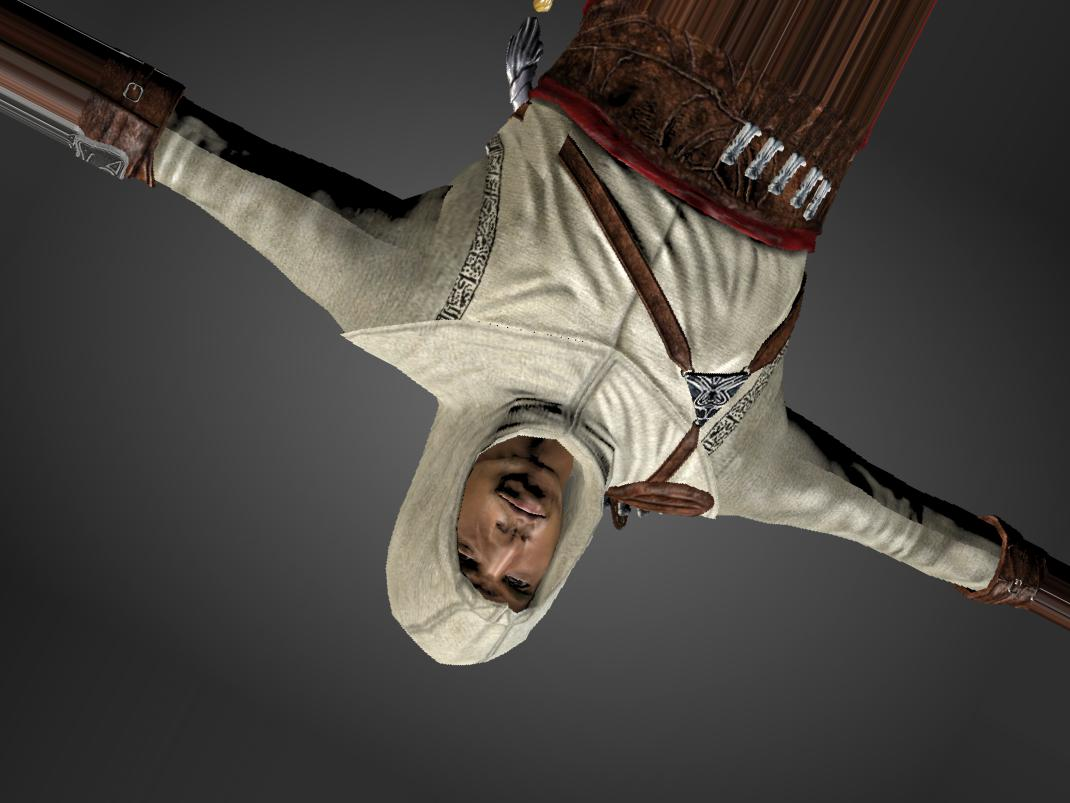clip: (520, 102, 575, 164)
